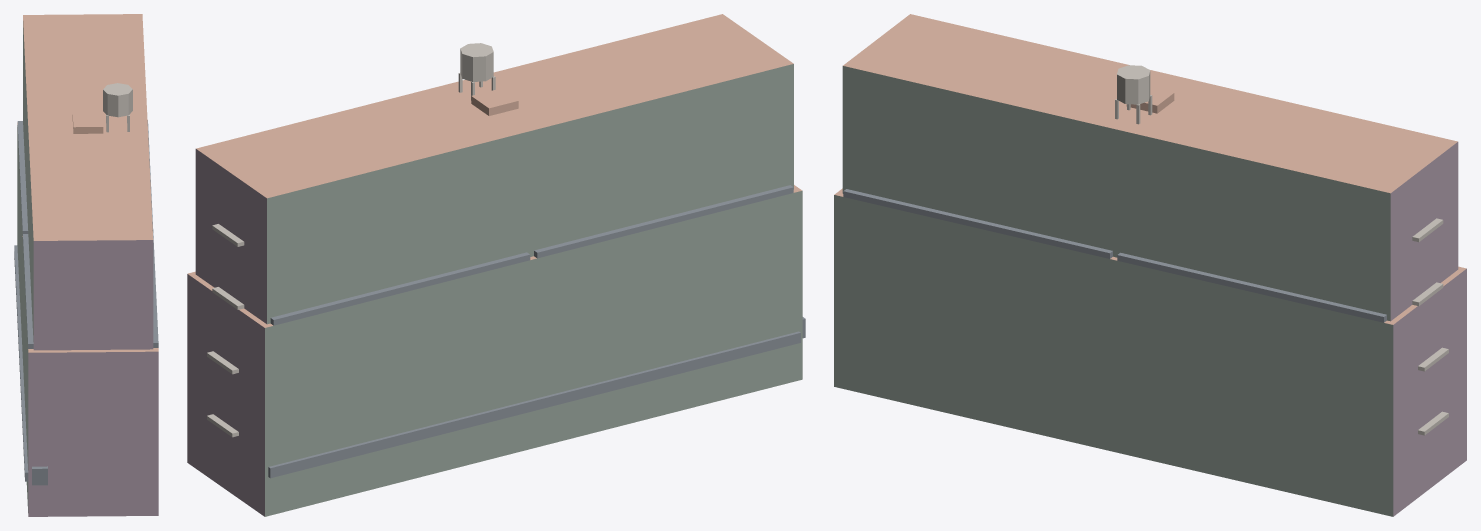
The model's file is doitt-812702__lod_1.glb.
The picture shows the model from 3 angles, left to right: view 1: azimuth 30°, elevation 25°; view 2: azimuth 150°, elevation 25°; view 3: azimuth 270°, elevation 25°; orthographic projection. The views are drawn at different scales.
Size of the model in its own units: 21.14 by 19.19 by 30.2.
